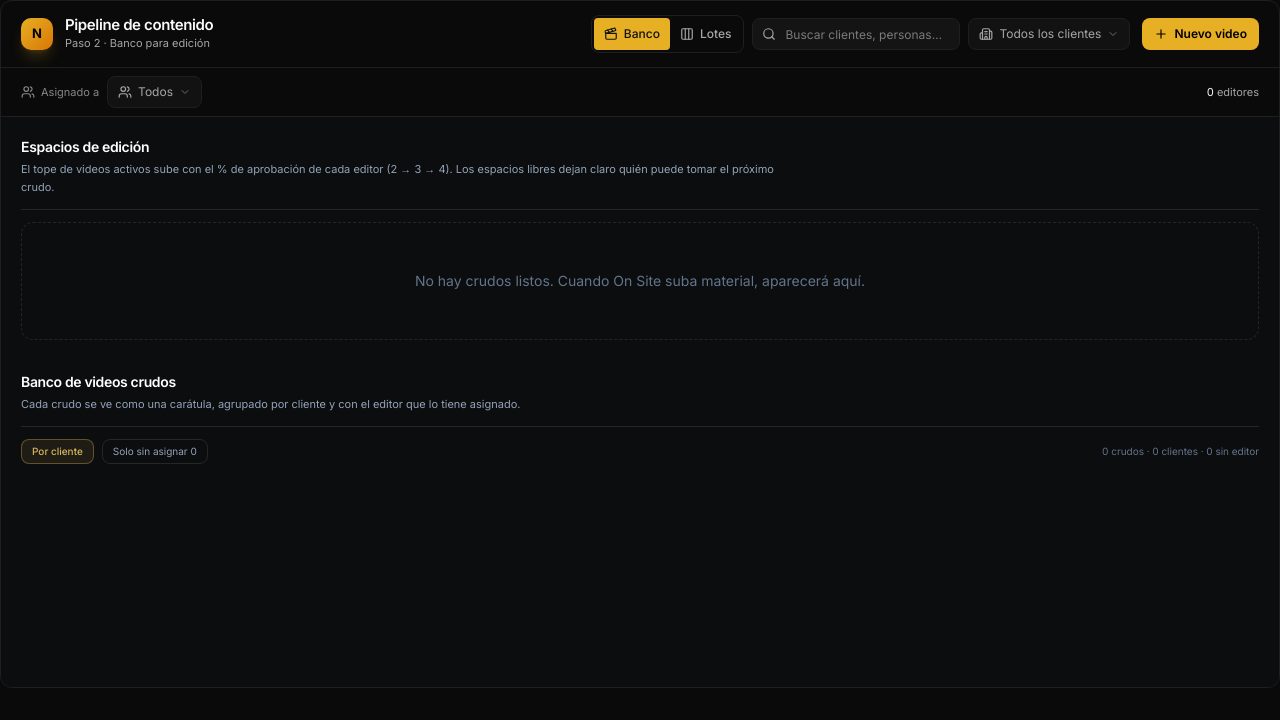
Test: ContentPipelineBoard — batch model › Lotes se lee como tablero y soltar en otra columna persiste el lote
Click the button "Lotes": (706,34) [670,18,742,50]
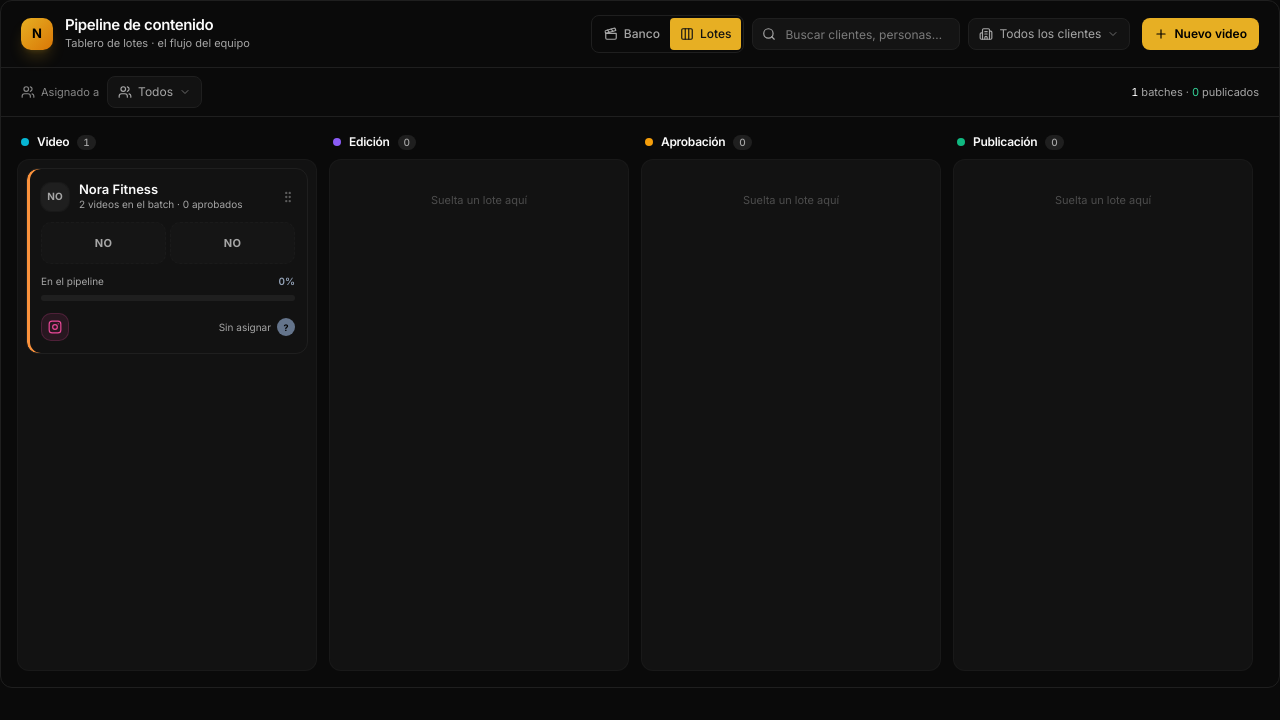
Expected: the text "Tablero de lotes · el flujo del equipo" is shown, [65,35,250,52]
